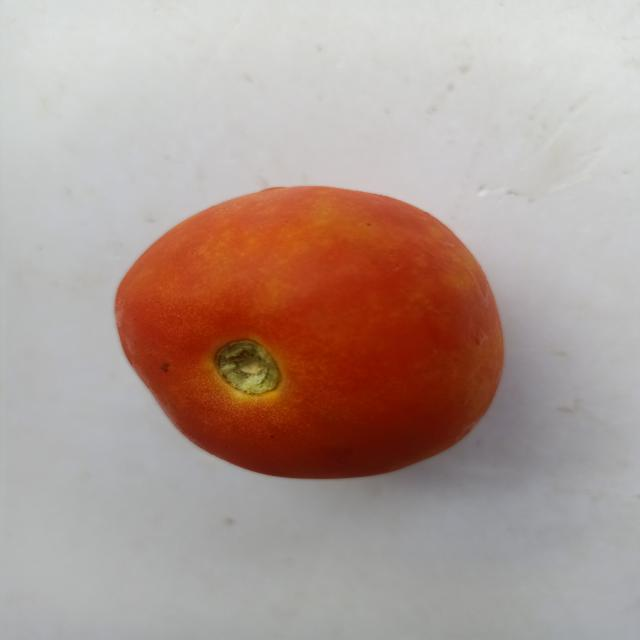Tomato: (94, 153, 536, 493)
